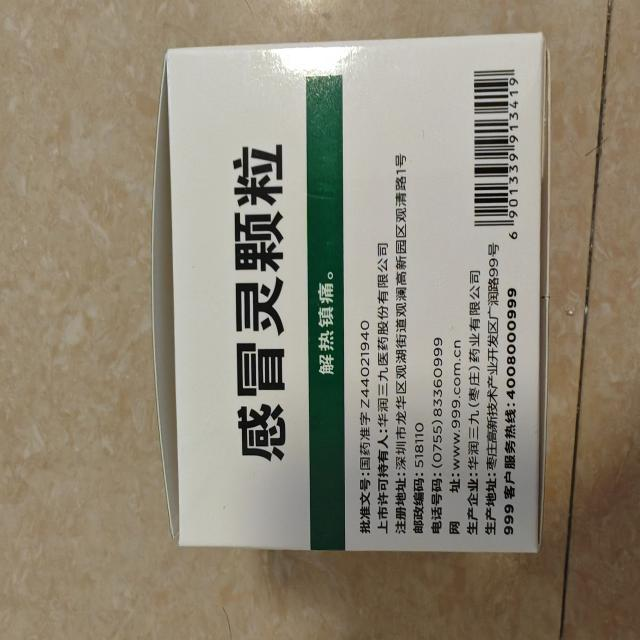box: (145, 28, 554, 574)
